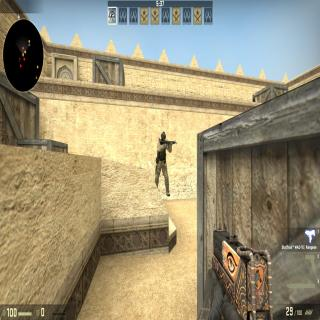CT-Body: (154, 131, 170, 195)
CT-Head: (160, 130, 167, 142)
